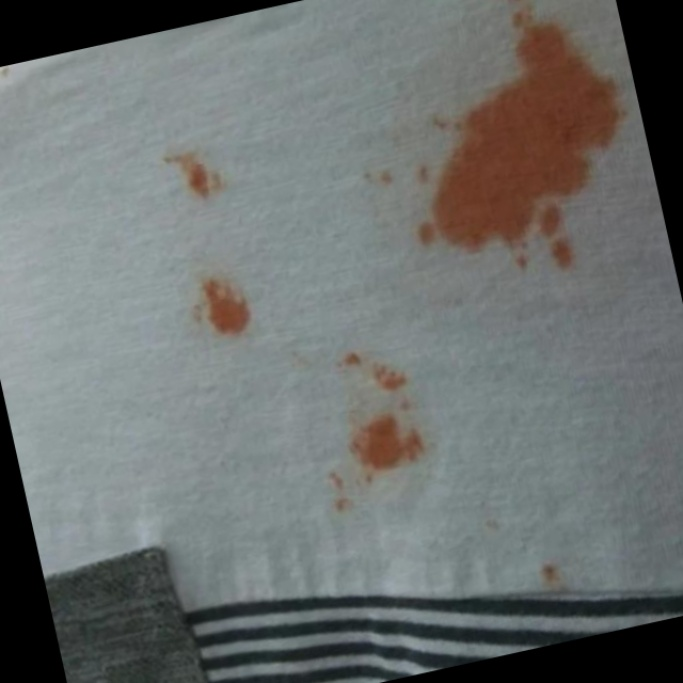kimchi: (321, 0, 662, 311), (287, 331, 468, 522), (161, 258, 272, 375), (155, 125, 235, 224), (513, 544, 576, 596), (468, 504, 522, 546)
